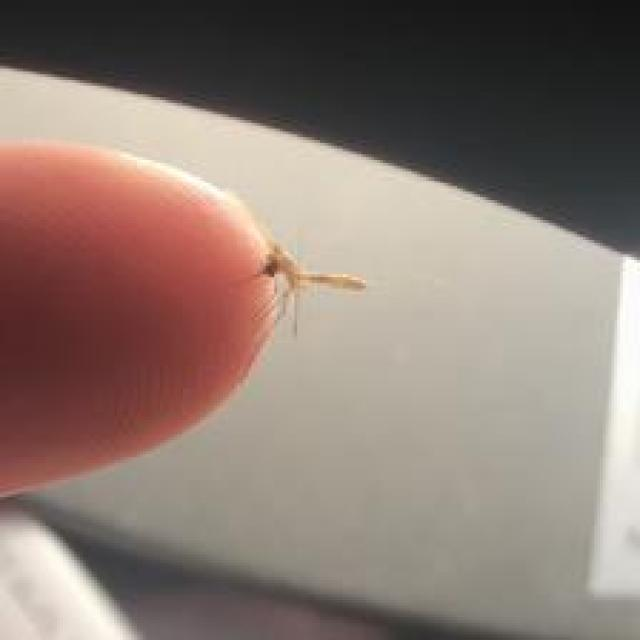Culex: (253, 240, 367, 337)
